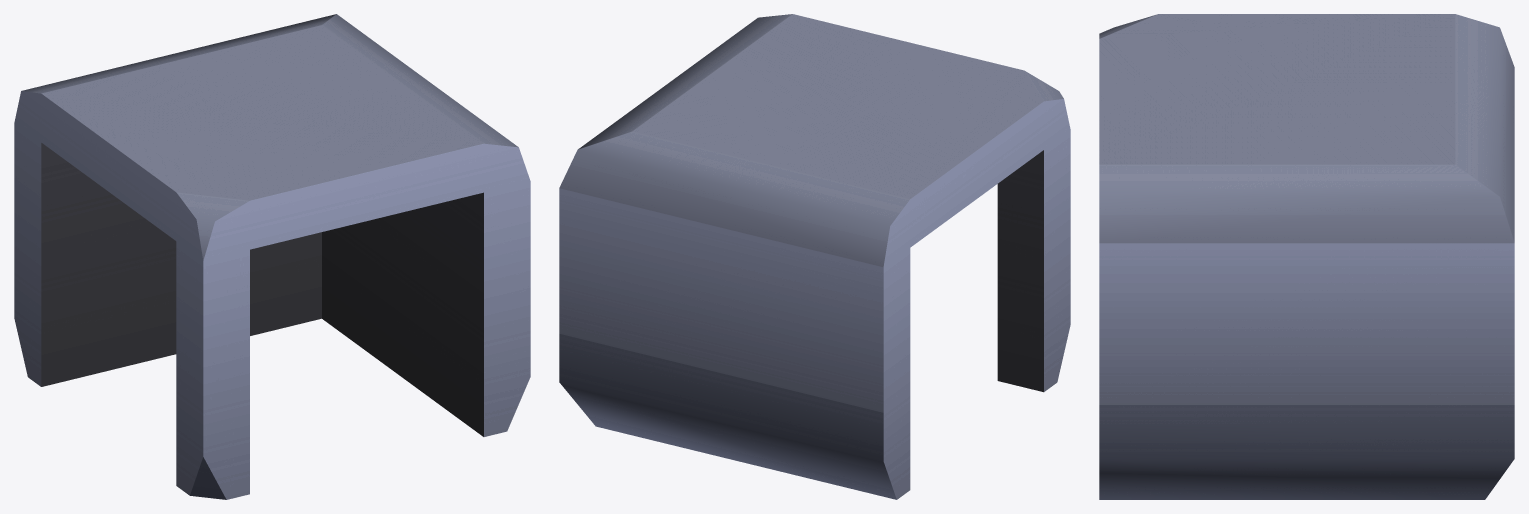
File: cover-corner.glb
The picture shows the model from 3 angles, left to right: view 1: azimuth 30°, elevation 25°; view 2: azimuth 150°, elevation 25°; view 3: azimuth 270°, elevation 25°; orthographic projection. The views are drawn at different scales.
Parts seen in each view (by area): view 1: cover-corner; view 2: cover-corner; view 3: cover-corner.
Part boxes in pixels (x1,y1,x2,y2): cover-corner: (14,14,530,499); cover-corner: (559,14,1070,499); cover-corner: (1099,14,1514,499).
Size of the model in its own units: 1.4 by 1.2 by 1.4.
Materials: 1 (1 with a texture image).
